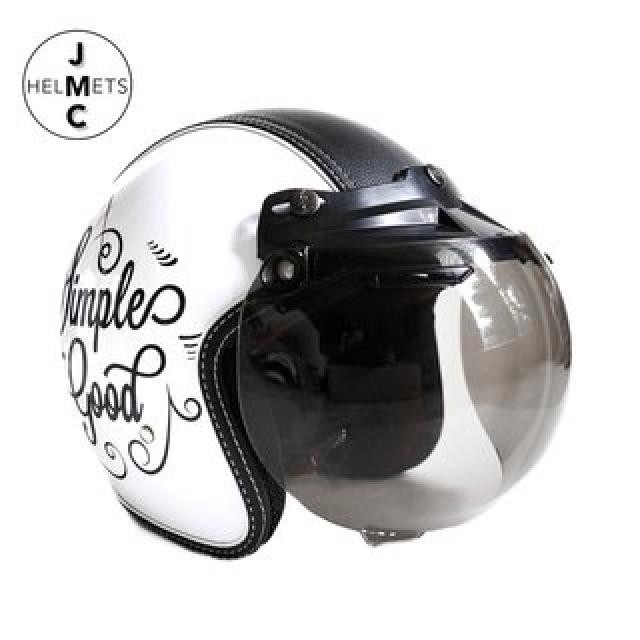Helm: (51, 106, 577, 564)
